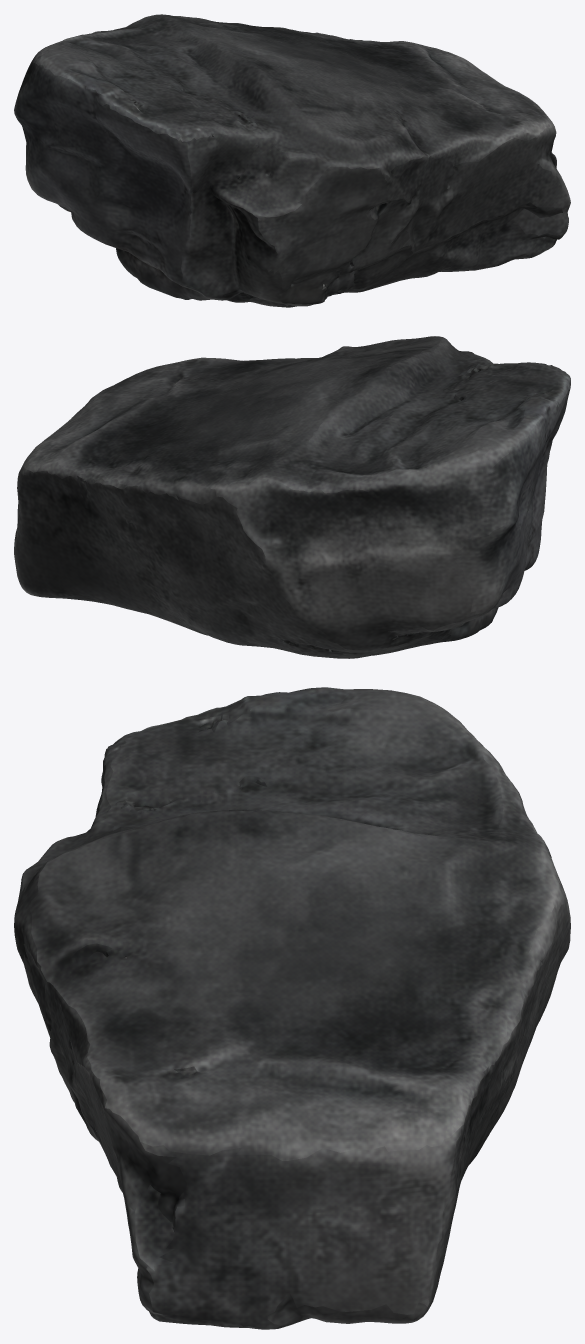
3 views of the same model, one above another, from view 1: azimuth 30°, elevation 25°; view 2: azimuth 150°, elevation 25°; view 3: azimuth 270°, elevation 25° (orthographic). The views are drawn at different scales.
Visible parts, largest first — view 1: world; view 2: world; view 3: world.
Part boxes in pixels (box(x1,y1,x2,y2)): world: box(14, 14, 570, 307); world: box(14, 336, 570, 658); world: box(14, 687, 570, 1329).
Bounding box in the file's own units: 1.2 × 0.6013 × 0.8763.
1 material, 1 textured.
